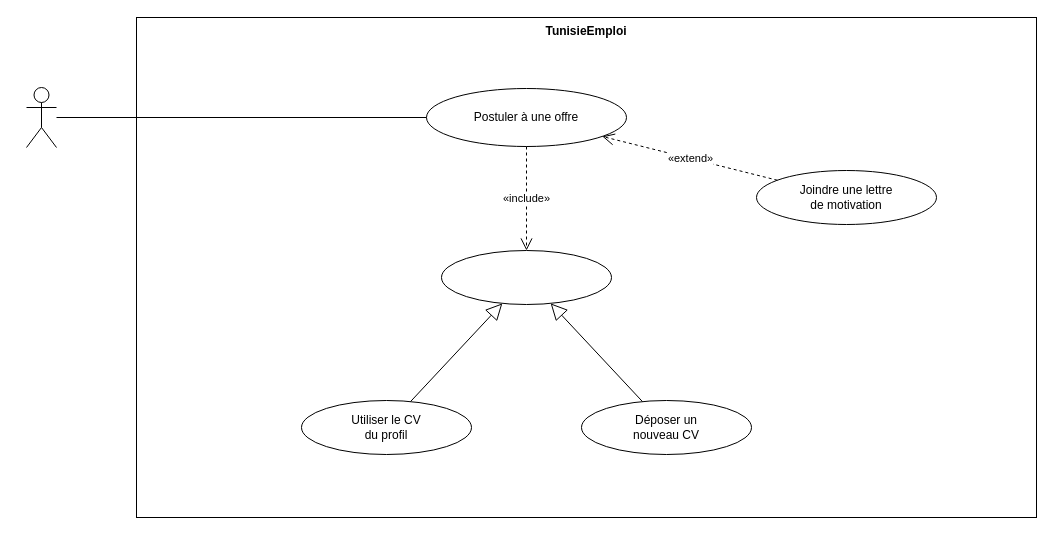
Some shapes in this 1054 by 535 pixel diagram are drawn without their labels. The centre of each missing label's shape, as x and y in pixels:
"Candidat" belongs at [41,117].
"Joindre un CV" belongs at [526,277].
